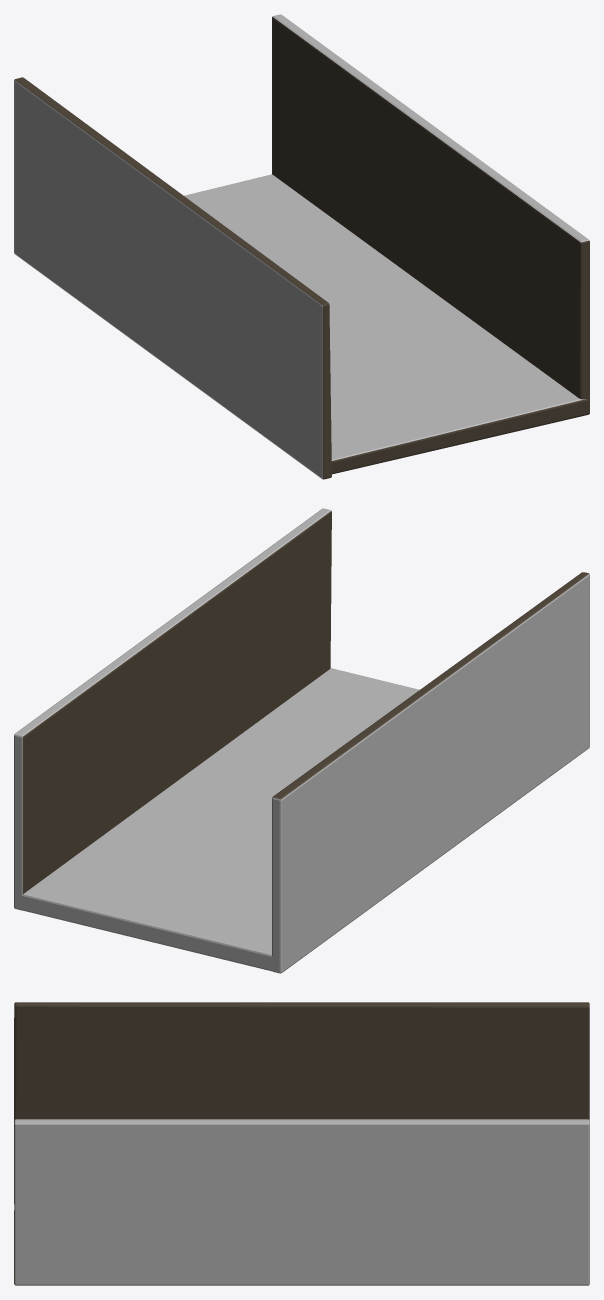
Rendered from corridor_floor_1x2_damaged.glb.
3 views of the same model, one above another, from view 1: azimuth 30°, elevation 25°; view 2: azimuth 150°, elevation 25°; view 3: azimuth 270°, elevation 25° (orthographic). The views are drawn at different scales.
Visible parts, largest first — view 1: Visual_corridor_floor_1x2_WestWall, Visual_corridor_floor_1x2_EastWall, Visual_corridor_floor_1x2_Floor; view 2: Visual_corridor_floor_1x2_WestWall, Visual_corridor_floor_1x2_EastWall, Visual_corridor_floor_1x2_Floor; view 3: Visual_corridor_floor_1x2_EastWall, Visual_corridor_floor_1x2_WestWall, Visual_corridor_floor_1x2_Floor.
Part boxes in pixels (bbox=[...]): Visual_corridor_floor_1x2_WestWall: bbox=[14, 77, 331, 479]; Visual_corridor_floor_1x2_EastWall: bbox=[272, 14, 589, 413]; Visual_corridor_floor_1x2_Floor: bbox=[184, 174, 589, 474]; Visual_corridor_floor_1x2_WestWall: bbox=[272, 572, 589, 973]; Visual_corridor_floor_1x2_EastWall: bbox=[14, 508, 331, 910]; Visual_corridor_floor_1x2_Floor: bbox=[15, 668, 419, 971]; Visual_corridor_floor_1x2_EastWall: bbox=[14, 1119, 589, 1285]; Visual_corridor_floor_1x2_WestWall: bbox=[14, 1002, 589, 1120]; Visual_corridor_floor_1x2_Floor: bbox=[14, 1210, 587, 1284].
Size of the model in its own units: 4 by 2.5 by 8.
